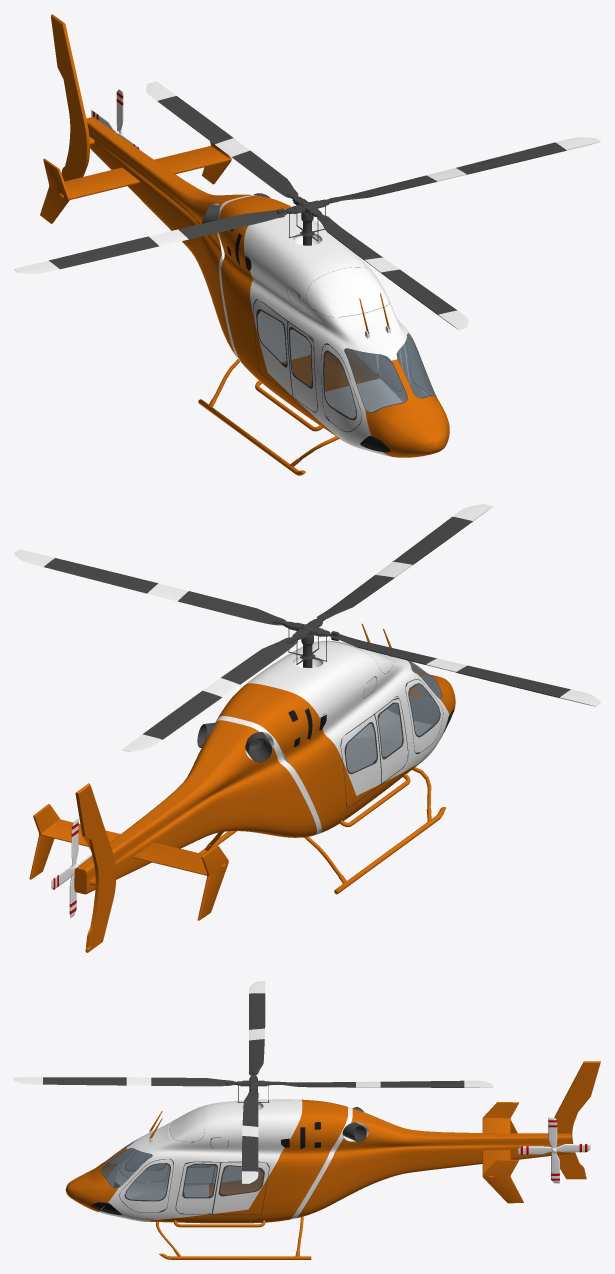
Rendered from heli_429_real.glb.
3 renders of one model, top to bottom at view 1: azimuth 30°, elevation 25°; view 2: azimuth 150°, elevation 25°; view 3: azimuth 270°, elevation 25°, orthographic. The views are drawn at different scales.
Visible parts, largest first — view 1: Cube.023_Cube.011, Cube_Cube.017, Cube.031_Cube.094, Cube.033_Cube.093, mainrotor_blade_Cube.052_Cube.013, Cube.045_Cube.003, mainrotor_blade_Cube.061_Cube.026, Cube.025_Cube.081, Cube.008_Cube.059, mainrotor_blade_Cube.058_Cube.022, mainrotor_blade_Cube.055_Cube.019, Cube.006_Cube.058 (+3 smaller); view 2: Cube.023_Cube.011, Cube_Cube.017, Cube.031_Cube.094, mainrotor_blade_Cube.055_Cube.019, Cube.025_Cube.081, mainrotor_blade_Cube.061_Cube.026, mainrotor_blade_Cube.058_Cube.022, mainrotor_blade_Cube.052_Cube.013, Cube.009_Cube.060, Cube.008_Cube.059, Cube.006_Cube.058, Cylinder.003_Cylinder.006 (+2 smaller); view 3: Cube.023_Cube.011, Cube_Cube.017, Cube.008_Cube.059, Cube.031_Cube.094, Cube.025_Cube.081, mainrotor_blade_Cube.058_Cube.022, Cube.009_Cube.060, mainrotor_blade_Cube.055_Cube.019, mainrotor_blade_Cube.052_Cube.013, Cube.006_Cube.058, mainrotor_blade_Cube.061_Cube.026, Cube.005_Cube.057 (+7 smaller).
Part boxes in pixels (bbox=[...]): Cube.023_Cube.011: bbox=[86, 117, 449, 457]; Cube_Cube.017: bbox=[217, 195, 434, 456]; Cube.031_Cube.094: bbox=[40, 141, 231, 223]; Cube.033_Cube.093: bbox=[345, 334, 435, 412]; mainrotor_blade_Cube.052_Cube.013: bbox=[14, 210, 287, 273]; Cube.045_Cube.003: bbox=[307, 267, 389, 317]; mainrotor_blade_Cube.061_Cube.026: bbox=[146, 81, 298, 198]; Cube.025_Cube.081: bbox=[51, 14, 94, 181]; Cube.008_Cube.059: bbox=[253, 300, 402, 411]; mainrotor_blade_Cube.058_Cube.022: bbox=[316, 215, 468, 329]; mainrotor_blade_Cube.055_Cube.019: bbox=[329, 137, 600, 202]; Cube.006_Cube.058: bbox=[324, 336, 433, 418]; Cube.023_Cube.011: bbox=[74, 663, 455, 894]; Cube_Cube.017: bbox=[215, 641, 449, 834]; Cube.031_Cube.094: bbox=[29, 804, 228, 920]; mainrotor_blade_Cube.055_Cube.019: bbox=[14, 549, 285, 625]; Cube.025_Cube.081: bbox=[75, 783, 115, 952]; mainrotor_blade_Cube.061_Cube.026: bbox=[122, 637, 297, 751]; mainrotor_blade_Cube.058_Cube.022: bbox=[317, 504, 493, 619]; mainrotor_blade_Cube.052_Cube.013: bbox=[328, 634, 600, 706]; Cube.009_Cube.060: bbox=[346, 703, 402, 772]; Cube.008_Cube.059: bbox=[341, 697, 407, 795]; Cube.006_Cube.058: bbox=[409, 684, 439, 735]; Cylinder.003_Cylinder.006: bbox=[199, 807, 445, 894]; Cube.023_Cube.011: bbox=[65, 1099, 571, 1223]; Cube_Cube.017: bbox=[98, 1099, 352, 1220]; Cube.008_Cube.059: bbox=[176, 1162, 269, 1213]; Cube.031_Cube.094: bbox=[482, 1102, 523, 1203]; Cube.025_Cube.081: bbox=[554, 1061, 600, 1179]; mainrotor_blade_Cube.058_Cube.022: bbox=[14, 1077, 234, 1086]; Cube.009_Cube.060: bbox=[183, 1164, 263, 1197]; mainrotor_blade_Cube.055_Cube.019: bbox=[242, 1091, 258, 1183]; mainrotor_blade_Cube.052_Cube.013: bbox=[249, 981, 265, 1075]; Cube.006_Cube.058: bbox=[126, 1151, 169, 1200]; mainrotor_blade_Cube.061_Cube.026: bbox=[272, 1080, 493, 1087]; Cube.005_Cube.057: bbox=[120, 1150, 173, 1211].
Size of the model in its own units: 22.35 by 8.66 by 27.37.
Materials: 2 (1 with a texture image).
